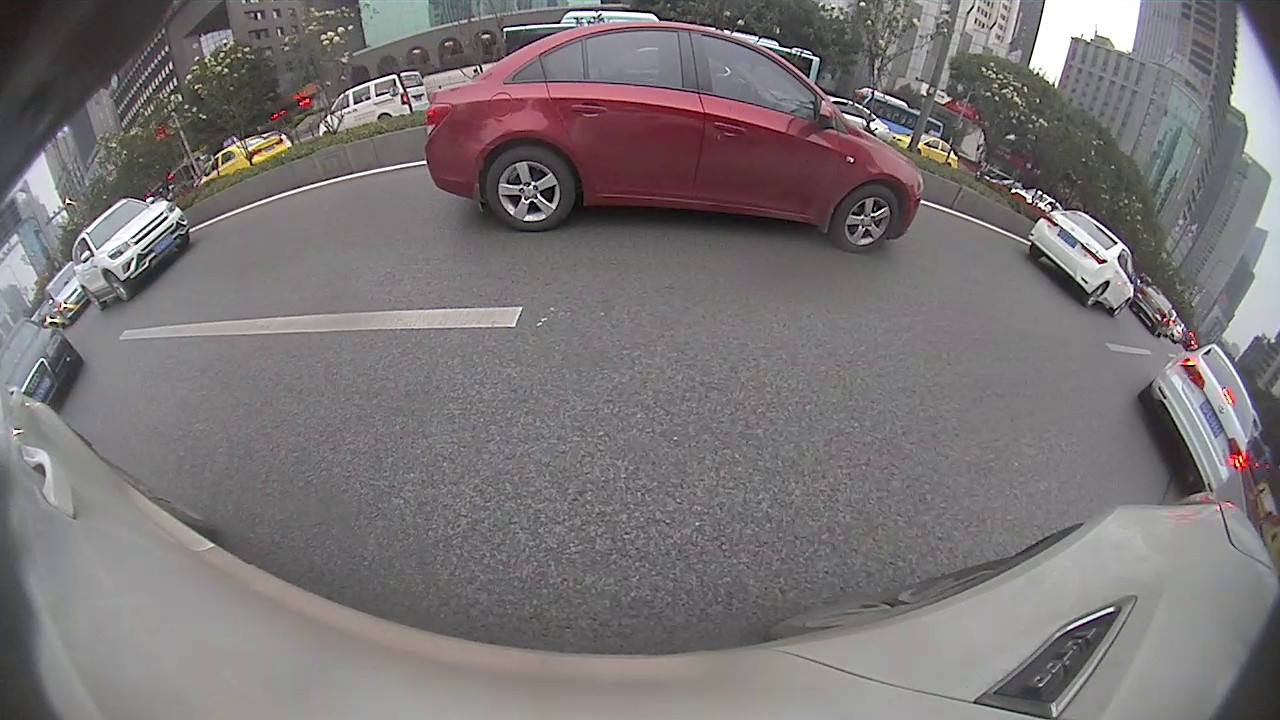car: (424, 19, 925, 254), (1136, 334, 1255, 496), (69, 197, 192, 309), (1028, 208, 1143, 316), (1, 313, 83, 413), (320, 73, 429, 139), (43, 262, 91, 319), (1129, 287, 1173, 335)
front: (833, 188, 900, 252), (103, 270, 133, 303)
rear: (485, 147, 576, 233), (1084, 283, 1109, 309)
